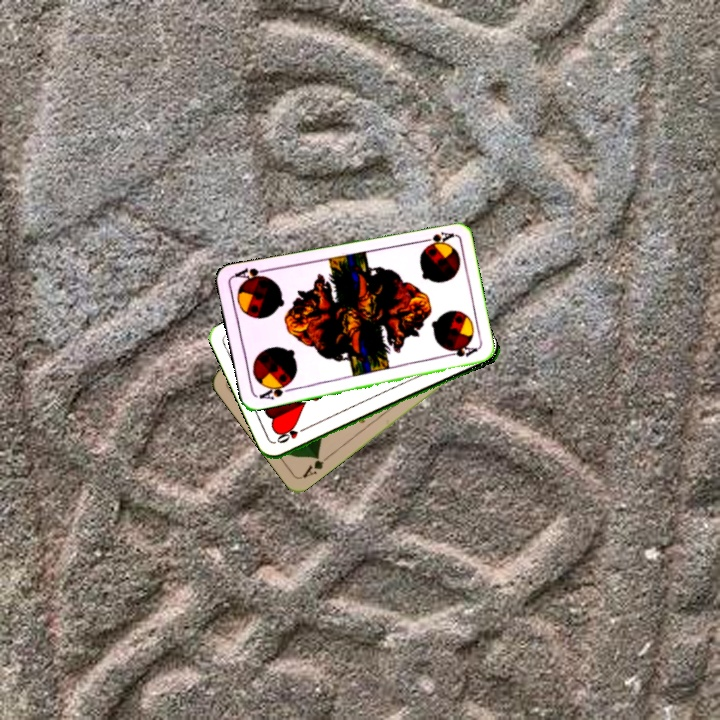GA: (298, 451, 333, 481)
HO: (273, 422, 310, 446)
SA: (255, 379, 294, 402), (415, 228, 456, 249)
